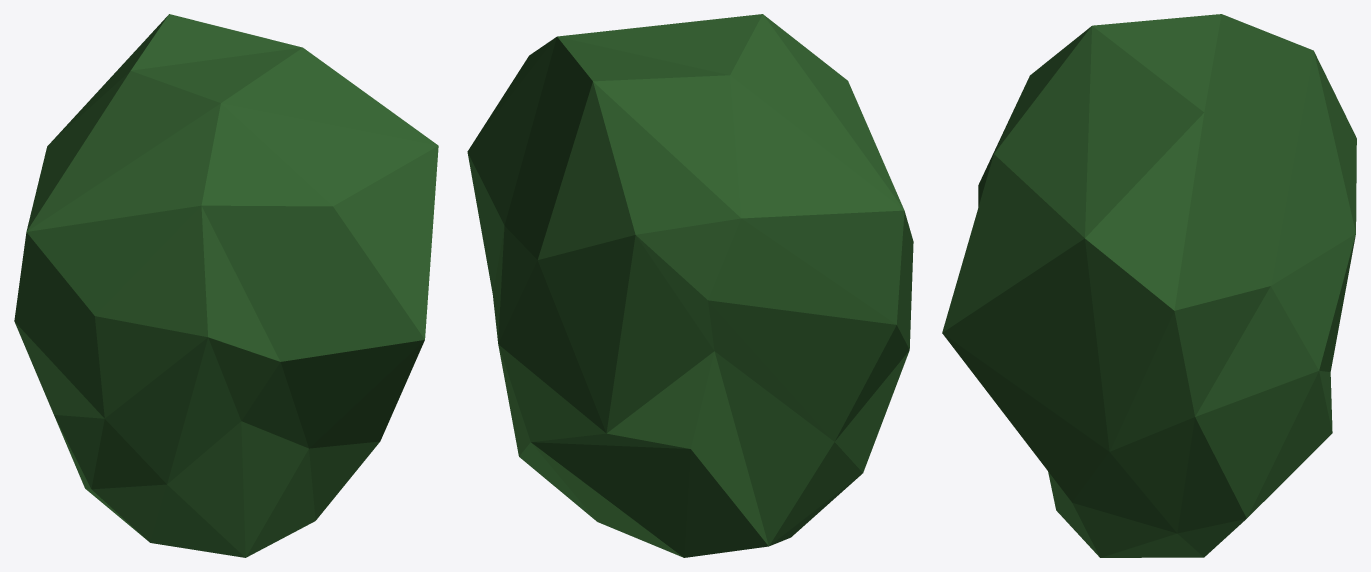
File: Bush03.fbx
The picture shows the model from 3 angles, left to right: view 1: azimuth 30°, elevation 25°; view 2: azimuth 150°, elevation 25°; view 3: azimuth 270°, elevation 25°; orthographic projection. The views are drawn at different scales.
Visible parts, largest first — view 1: Bush03; view 2: Bush03; view 3: Bush03.
Part boxes in pixels (x1,y1,x2,y2): Bush03: [14, 14, 438, 557]; Bush03: [467, 14, 913, 557]; Bush03: [942, 14, 1356, 557].
Size of the model in its own units: 2 by 1.69 by 2.17.
